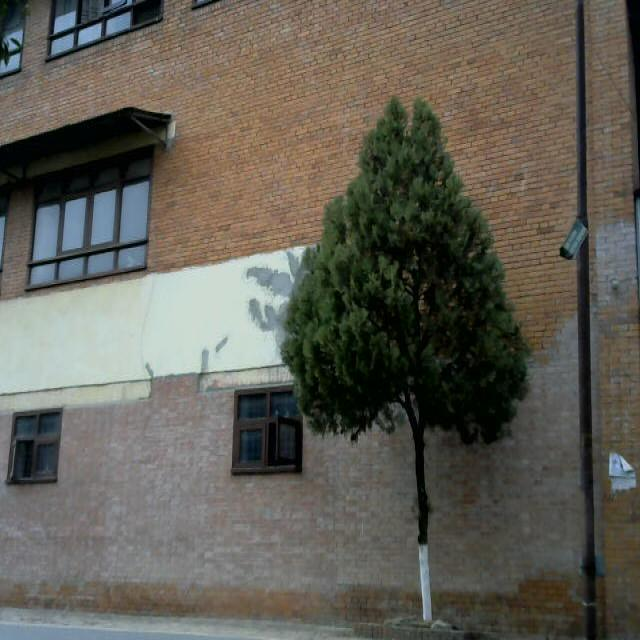Buildings: (3, 4, 326, 640)
Pole: (561, 0, 618, 640)
trees: (281, 82, 526, 636)
